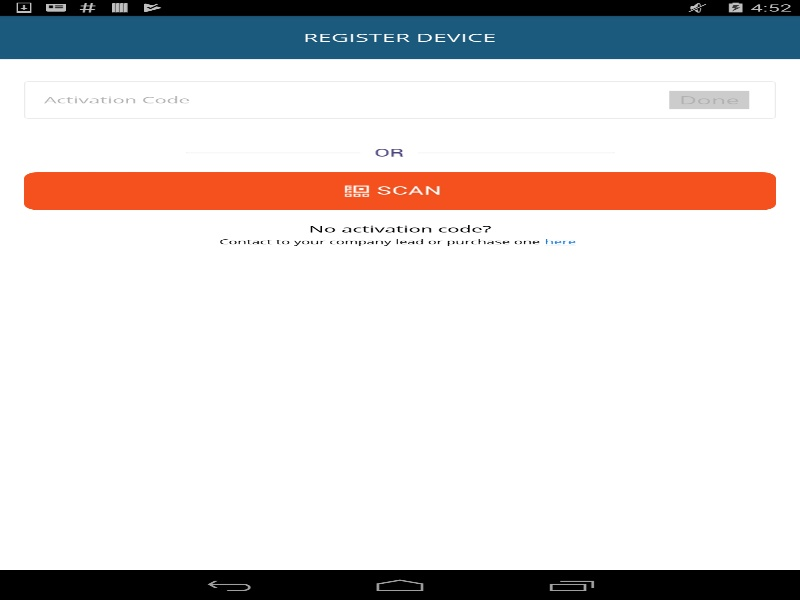Button: (24, 172, 776, 210), (669, 90, 749, 109), (540, 235, 580, 247)
Input: (24, 81, 776, 118)
